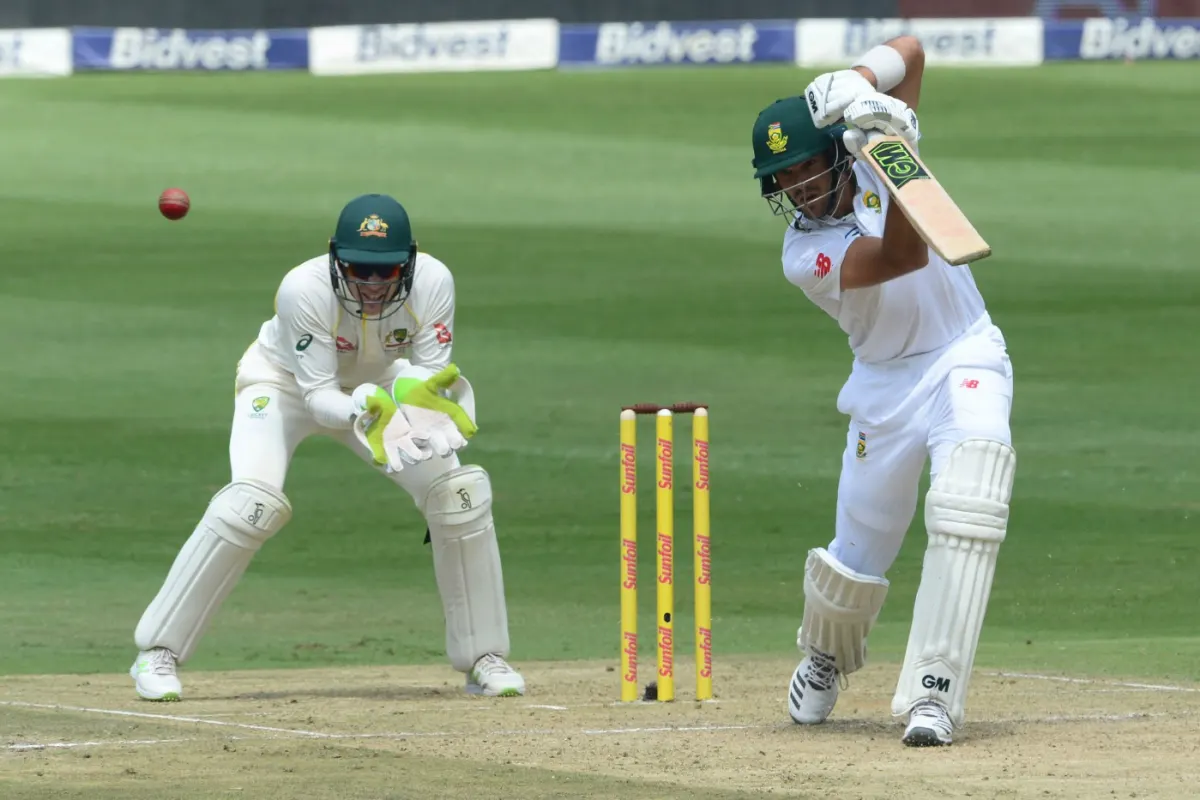Defence: (100, 3, 1080, 800)
